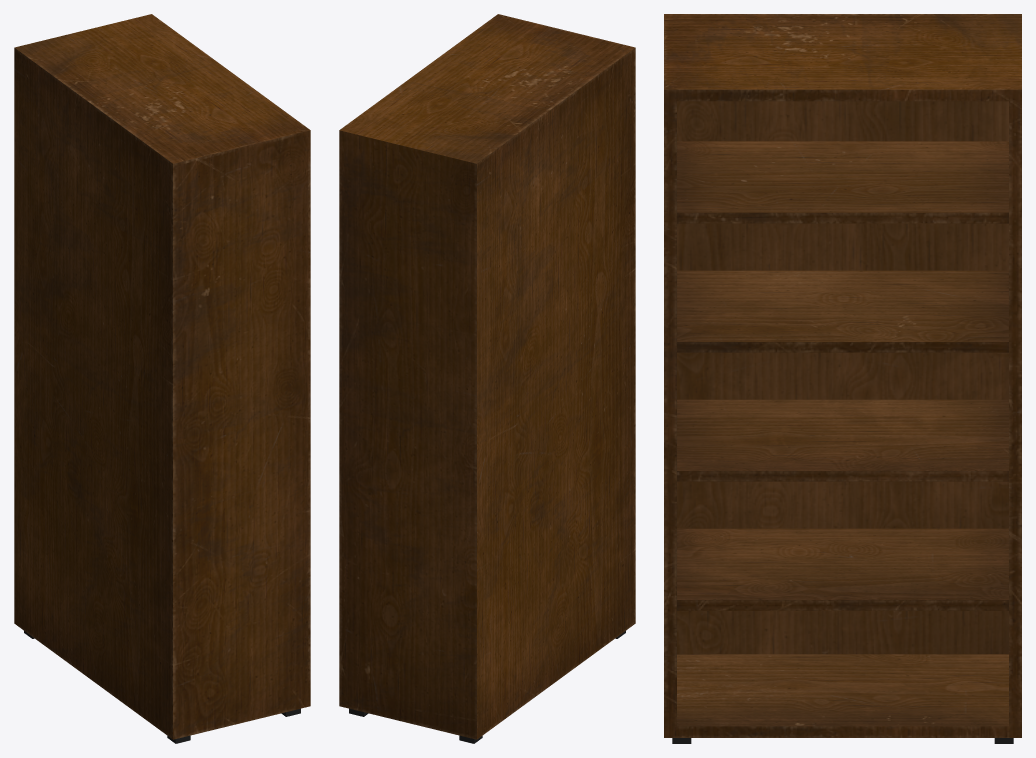
Rendered from closet_low_poly.glb.
The picture shows the model from 3 angles, left to right: view 1: azimuth 30°, elevation 25°; view 2: azimuth 150°, elevation 25°; view 3: azimuth 270°, elevation 25°; orthographic projection. The views are drawn at different scales.
Parts seen in each view (by area): view 1: Object_2; view 2: Object_2; view 3: Object_2.
Boxes of the visible parts, x1,y1,x2,y2 form: Object_2: [14, 14, 310, 743]; Object_2: [339, 14, 635, 743]; Object_2: [664, 14, 1021, 743].
Bounding box in the file's own units: 0.5 × 2.03 × 1.
Materials: 1 (1 with a texture image).
